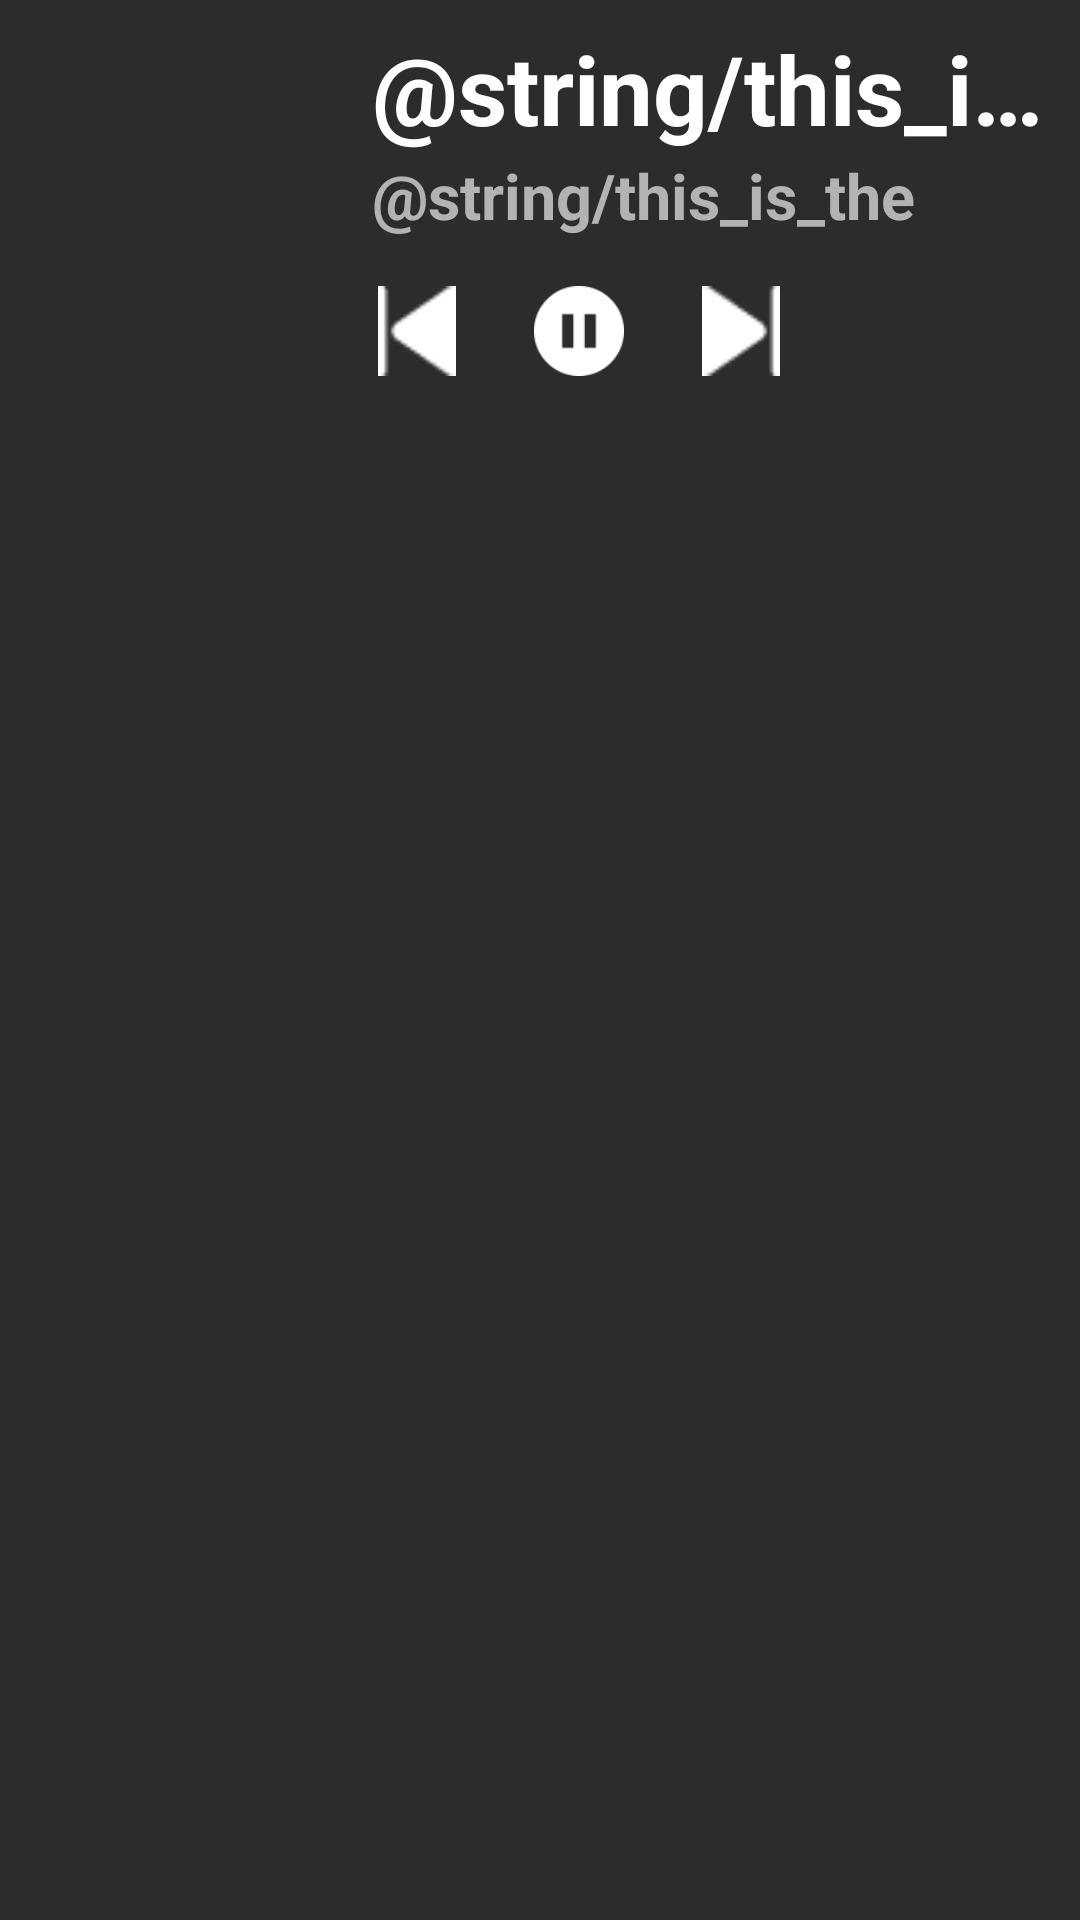

Screen size 1080x1920. Icon name, then its box in pixels as (x1, y1, x2, y2):
next play: (702, 286, 780, 376)
play: (534, 286, 624, 376)
previous play: (378, 286, 456, 376)
